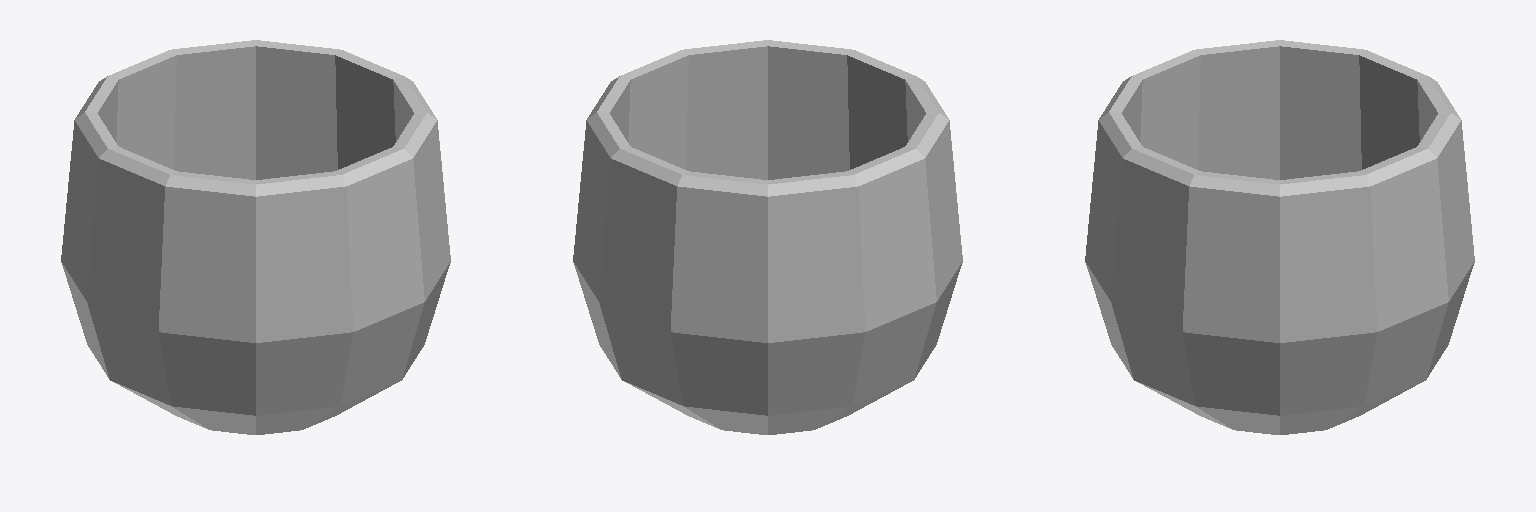
Rendered from Pot03.obj.
3 views of the same model, side by side, from view 1: azimuth 30°, elevation 25°; view 2: azimuth 150°, elevation 25°; view 3: azimuth 270°, elevation 25° (orthographic).
Parts seen in each view (by area): view 1: Object001; view 2: Object001; view 3: Object001.
Boxes of the visible parts, x1=… form: Object001: x1=61, y1=40, x2=450, y2=434; Object001: x1=573, y1=40, x2=962, y2=434; Object001: x1=1085, y1=40, x2=1474, y2=434.
Size of the model in its own units: 1.13 by 0.9215 by 1.13.